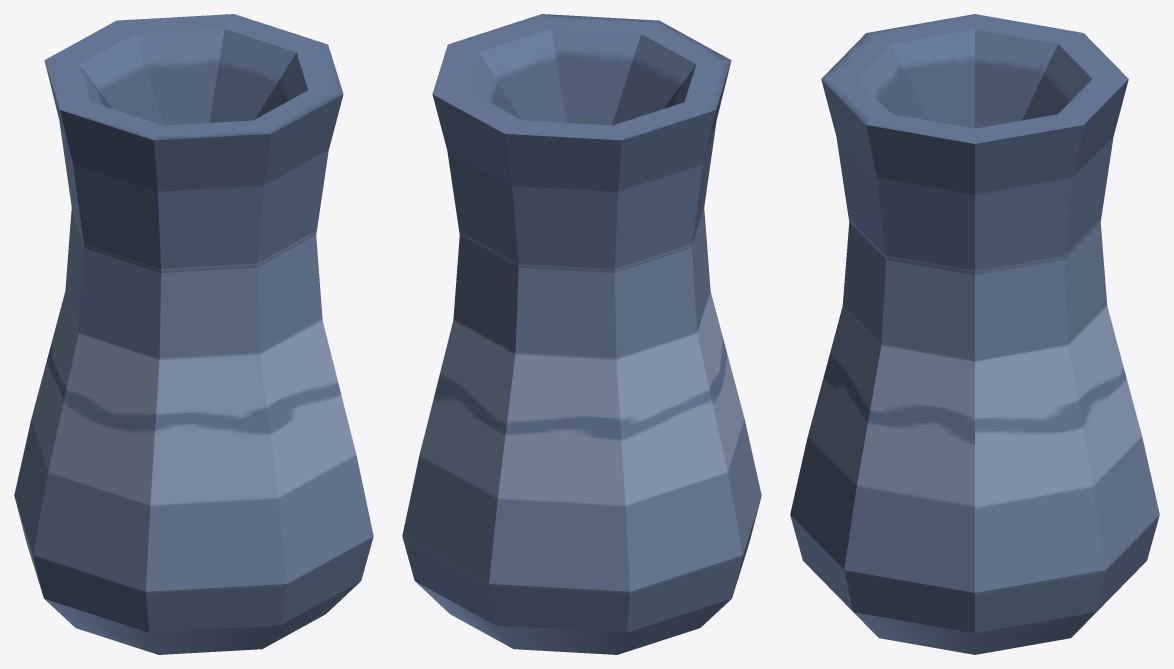
File: smb.fbx
3 views of the same model, side by side, from view 1: azimuth 30°, elevation 25°; view 2: azimuth 150°, elevation 25°; view 3: azimuth 270°, elevation 25° (orthographic).
Visible parts, largest first — view 1: Object014; view 2: Object014; view 3: Object014.
Boxes of the visible parts, x1,y1,x2,y2 form: Object014: (14, 14, 373, 654); Object014: (402, 14, 761, 654); Object014: (790, 14, 1159, 654).
Size of the model in its own units: 17.93 by 27.75 by 17.93.
